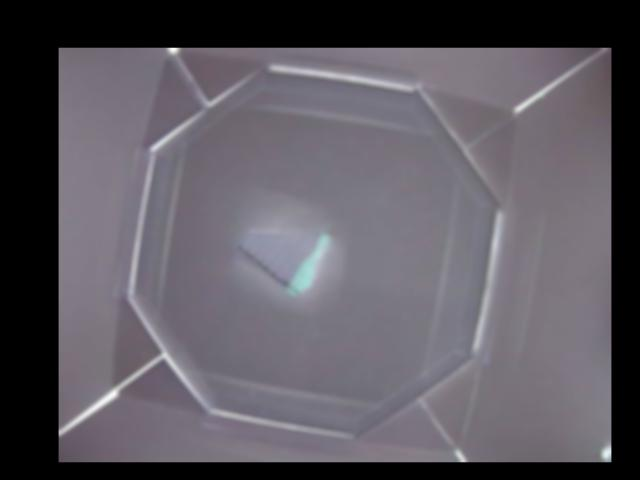China: (232, 221, 332, 294)
